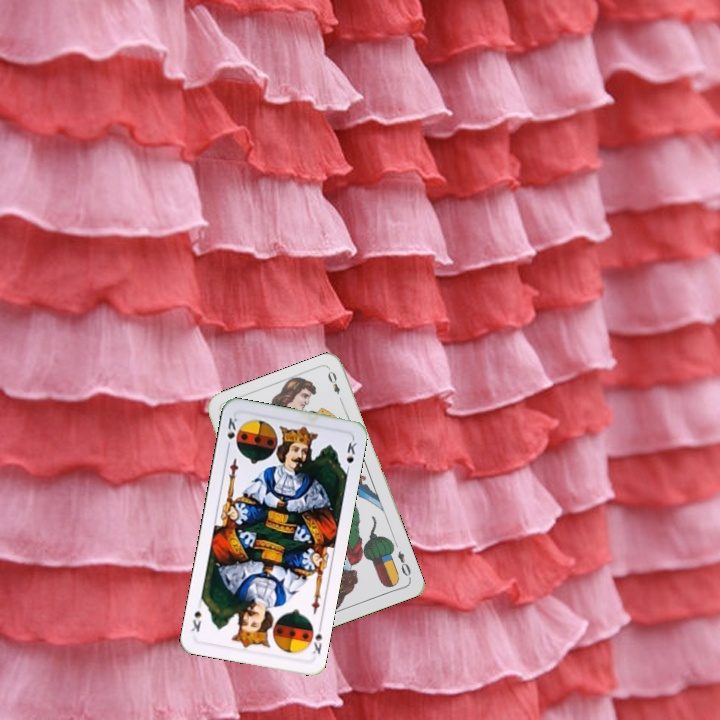EO: (393, 547, 414, 582)
SK: (223, 413, 241, 452), (308, 620, 325, 657)
